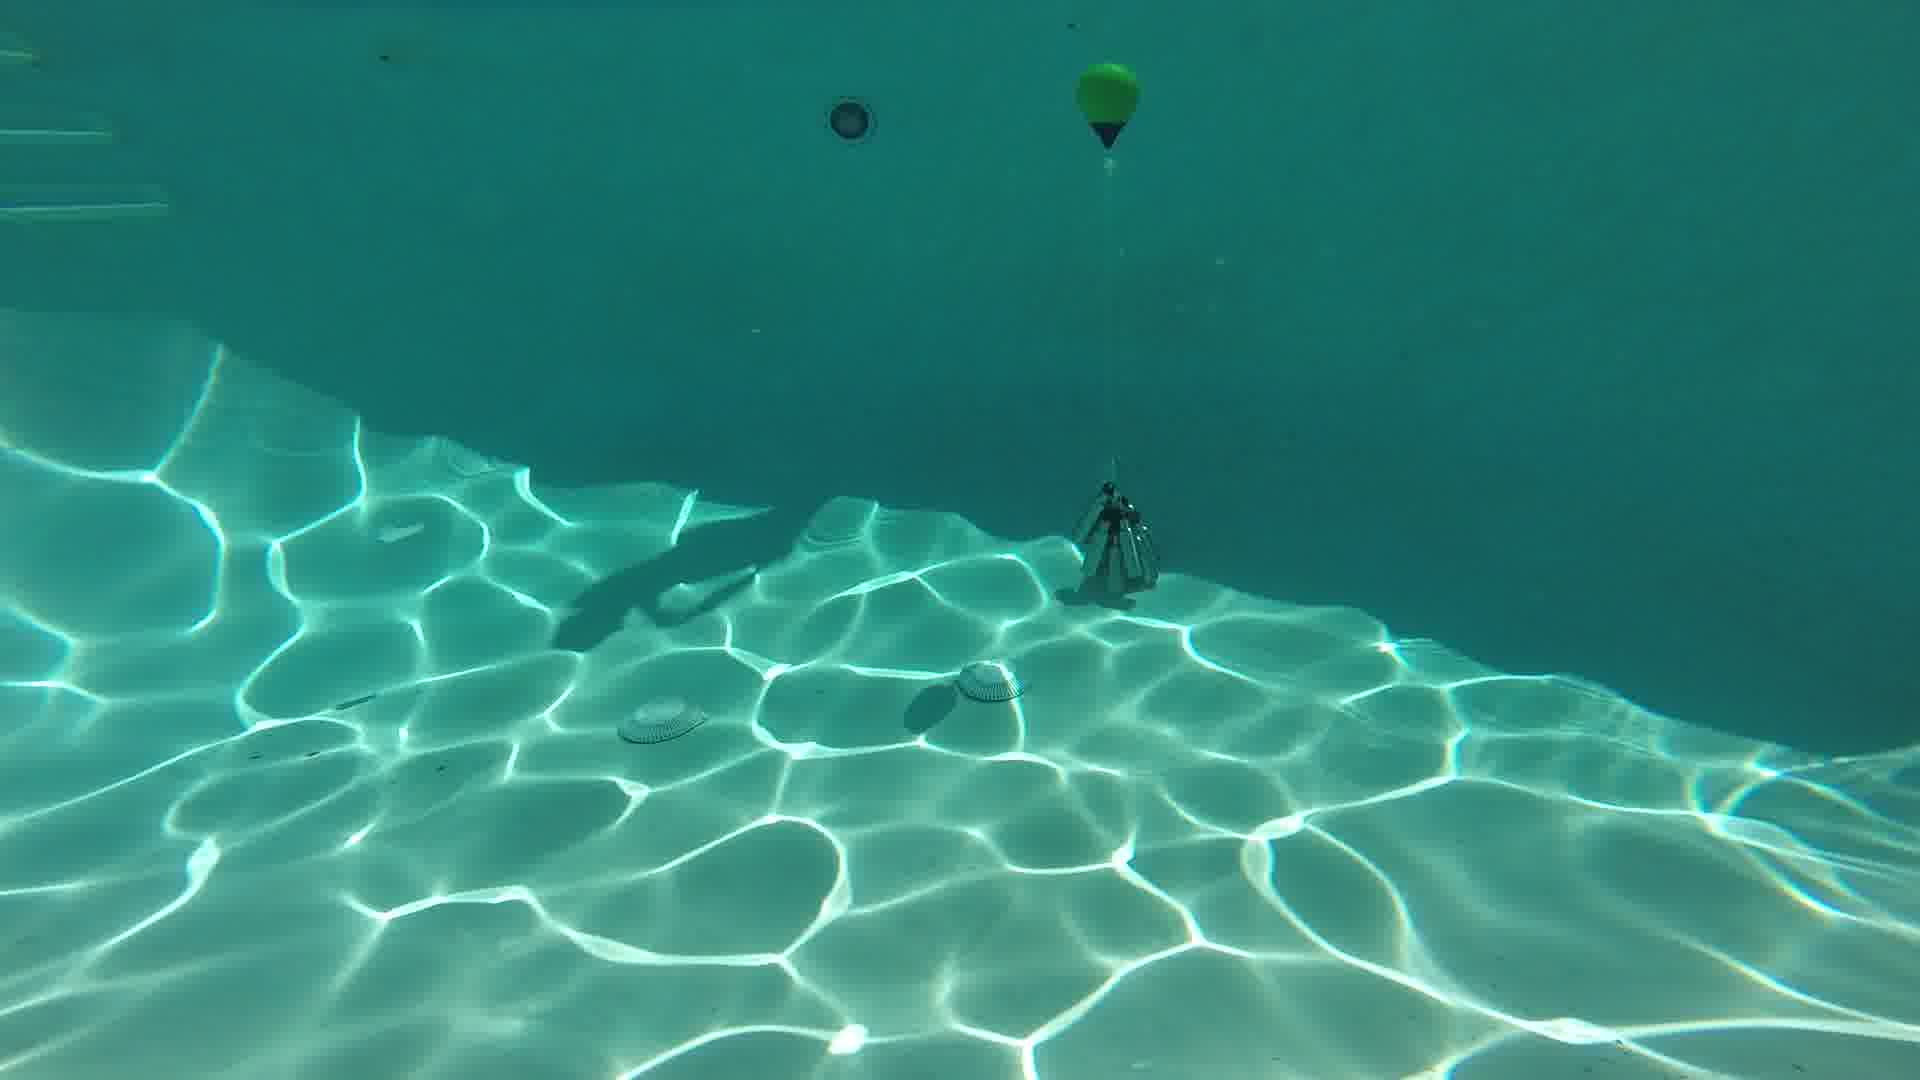yellow_buoy: (1075, 61, 1139, 179)
